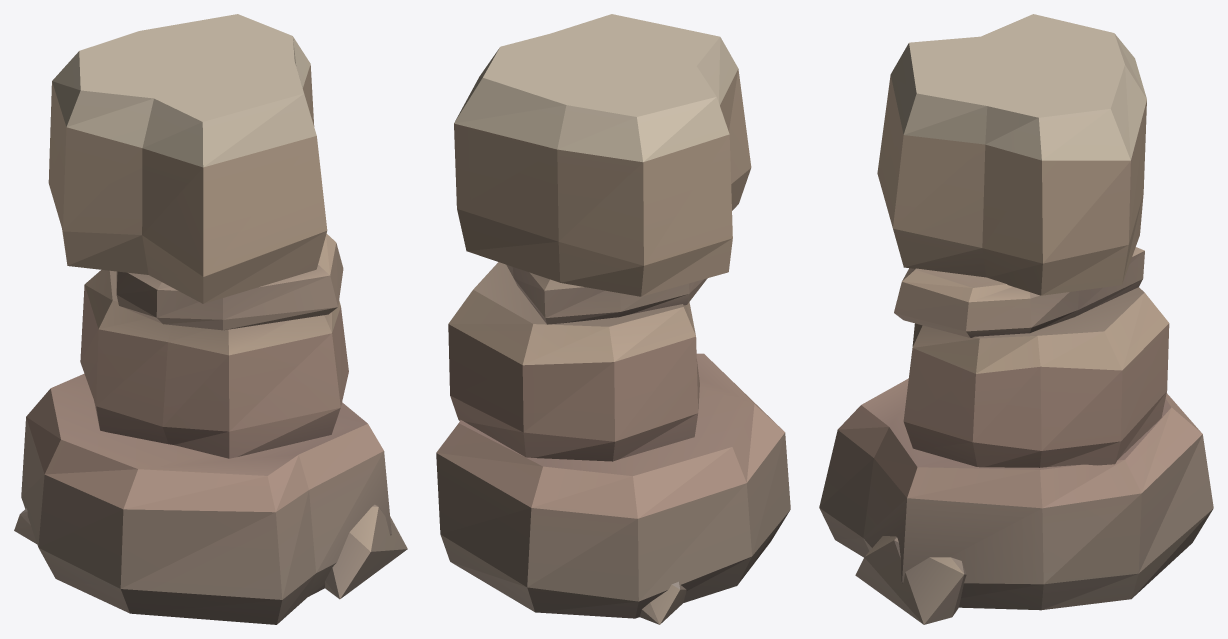
The model's file is rock_2.glb.
3 renders of one model, left to right at view 1: azimuth 30°, elevation 25°; view 2: azimuth 150°, elevation 25°; view 3: azimuth 270°, elevation 25°, orthographic.
Bounding box in the file's own units: 1.88 × 2.8 × 2.09.
